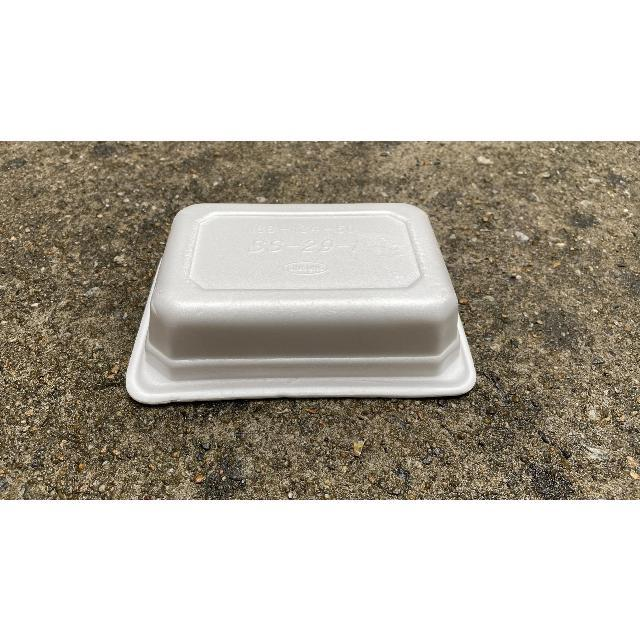Plastico descartable: (124, 204, 476, 409)
